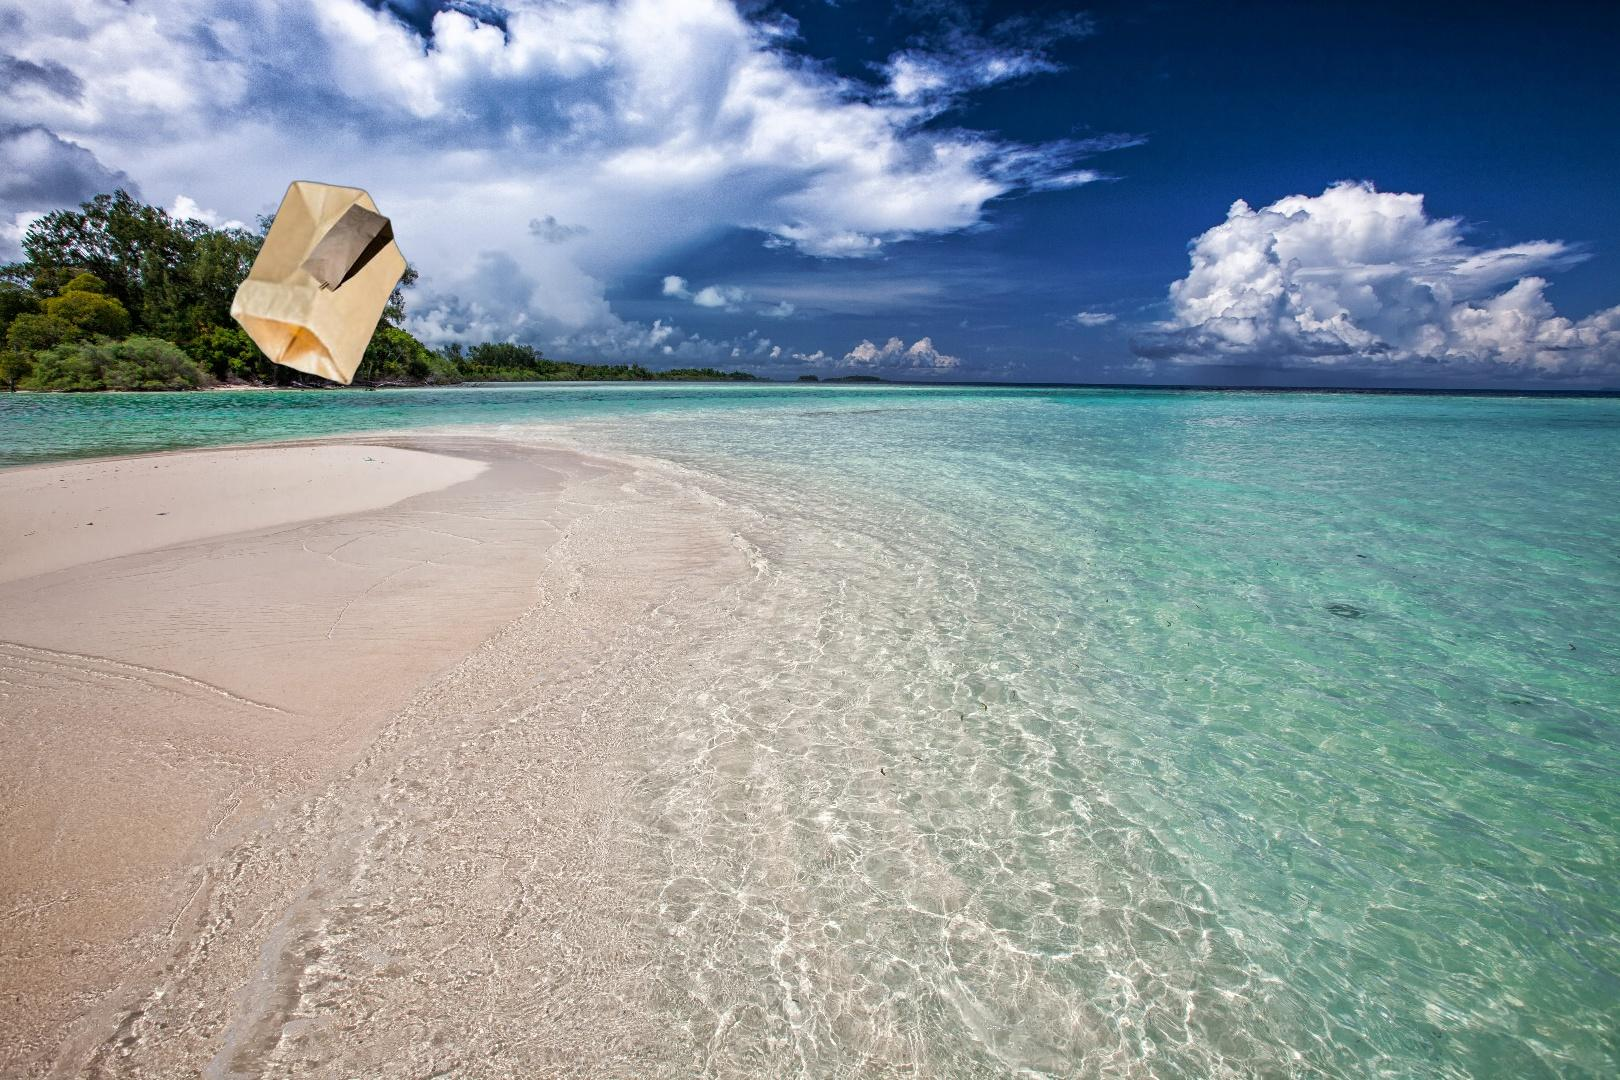paper-bag: (227, 180, 410, 387)
